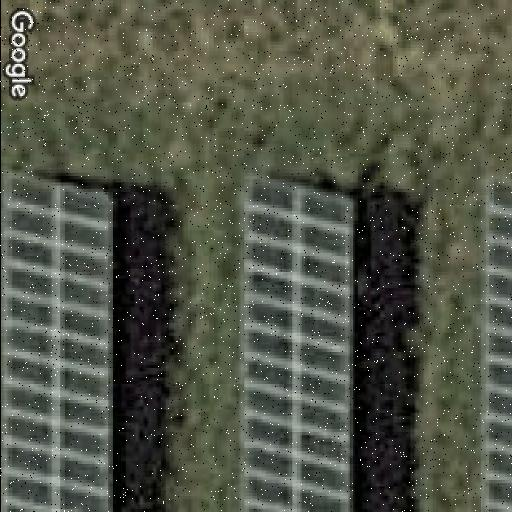solar-panel: (232, 174, 357, 512), (0, 160, 115, 512), (480, 176, 512, 512)
